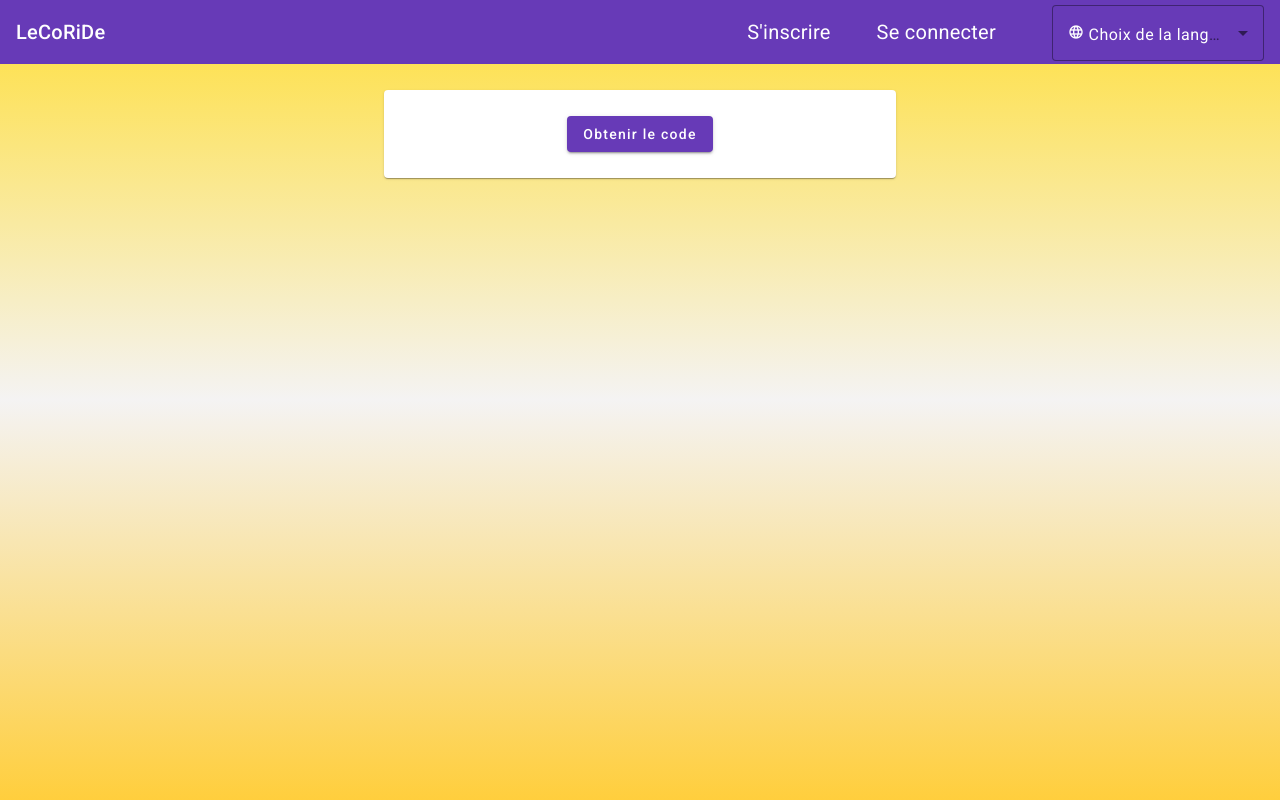
Test: OTP Verification Flow › devrait envoyer le code OTP et afficher le message d'attente
The image size is (1280, 800).
Click the button with test id "get-code-btn": (640,134) [567,116,712,152]
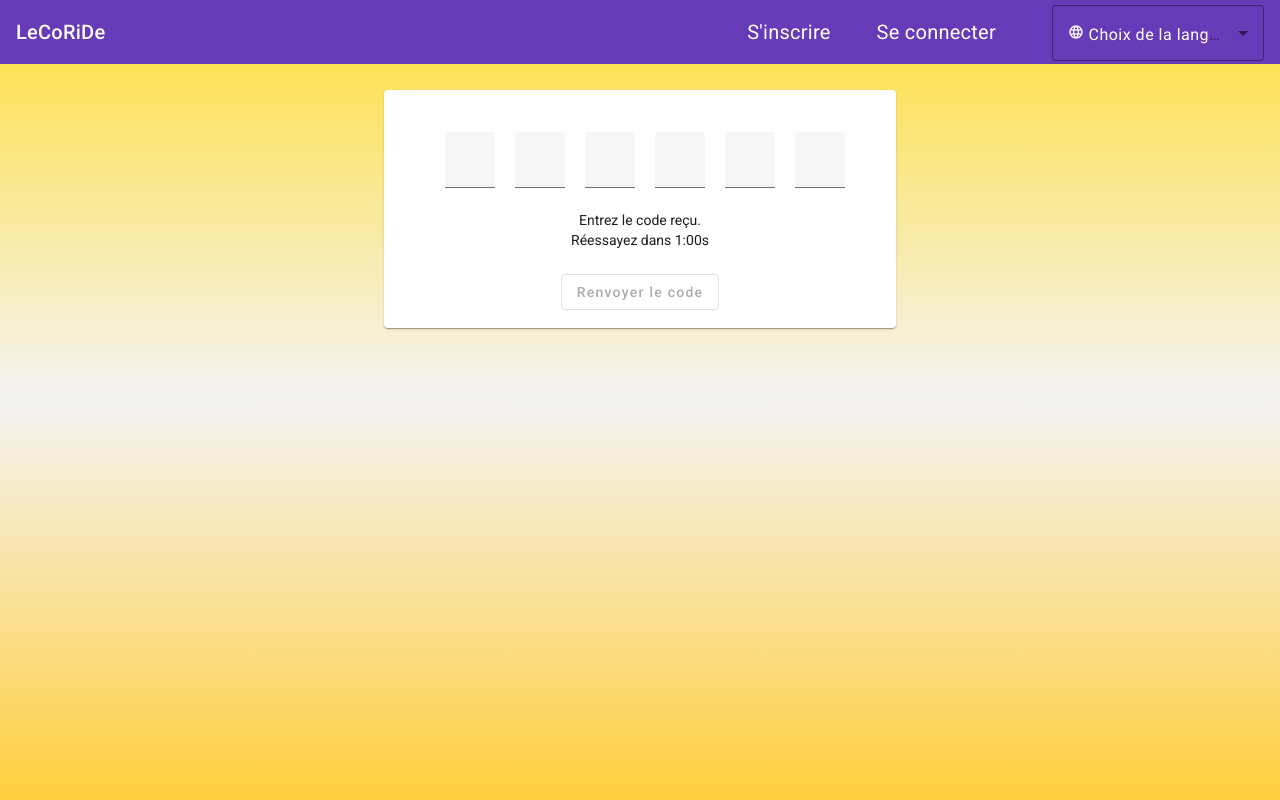
Expected: the text with test id "otp-message" reads "Entrez le code reçu.", [579,212,701,228]
Expected: the element with test id "otp-input" is shown, [445,132,845,188]
Expected: the element with test id "otp-timer" is shown, [571,232,709,248]
